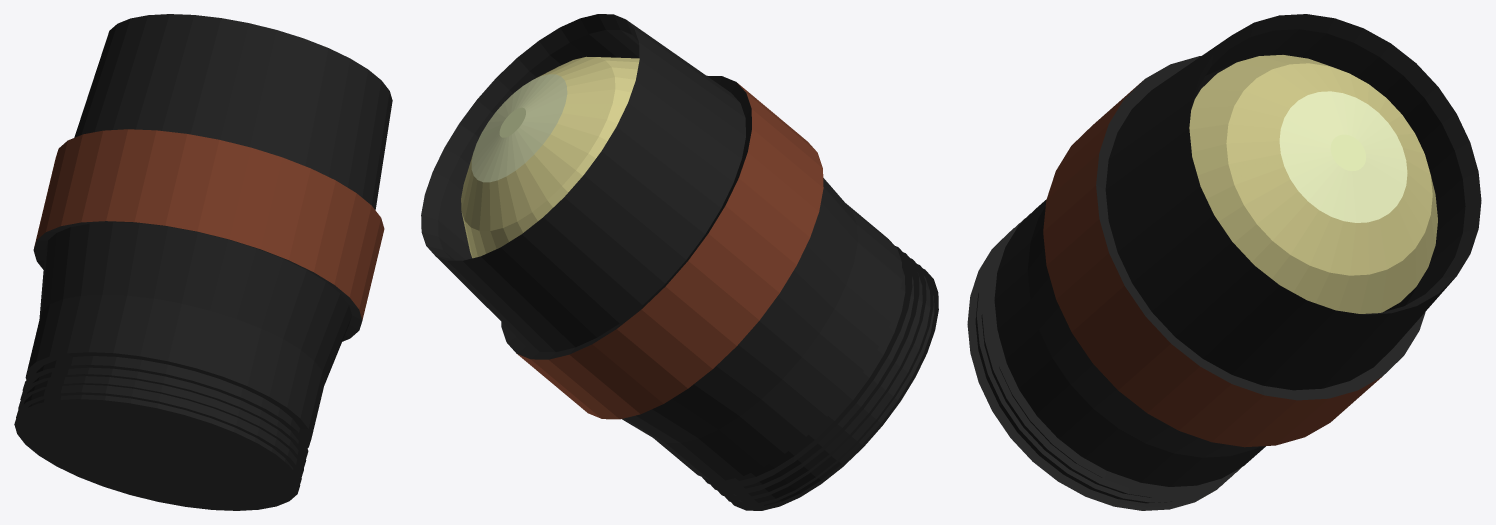
Rendered from cupalense.fbx.
The picture shows the model from 3 angles, left to right: view 1: azimuth 30°, elevation 25°; view 2: azimuth 150°, elevation 25°; view 3: azimuth 270°, elevation 25°; orthographic projection. The views are drawn at different scales.
Parts seen in each view (by area): view 1: Cylinder; view 2: Cylinder; view 3: Cylinder.
Boxes of the visible parts, box(x1,y1,x2,y2) form: Cylinder: box(14, 14, 392, 510); Cylinder: box(421, 14, 938, 510); Cylinder: box(967, 14, 1481, 510).
Size of the model in its own units: 200 by 214 by 194.
